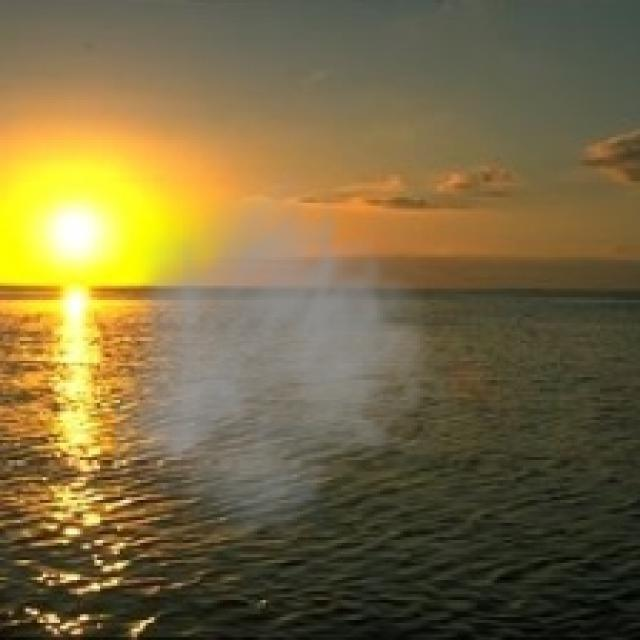Smoke: (114, 157, 466, 557)
